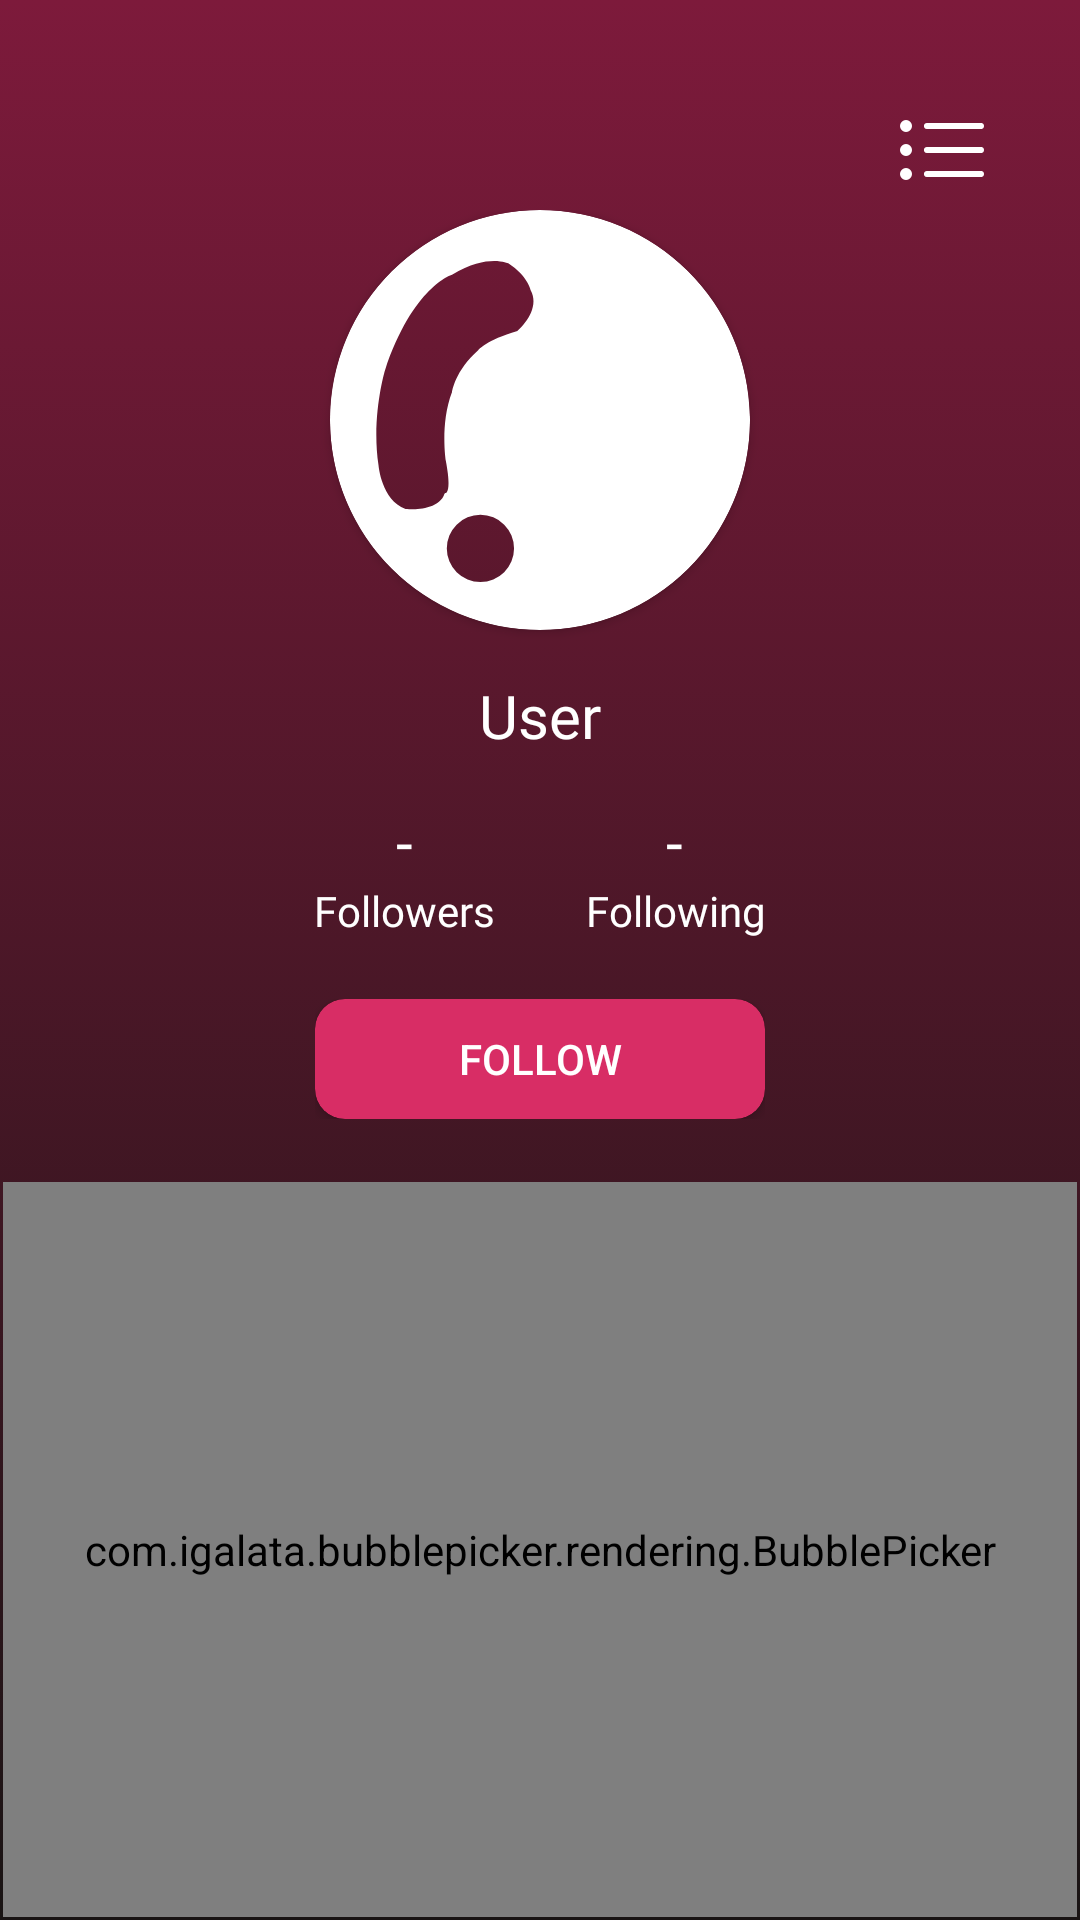

Named icons in this screenshot (1080w x 1920h) and their centers, (x=x, y=y):
queue: (x=942, y=150)
